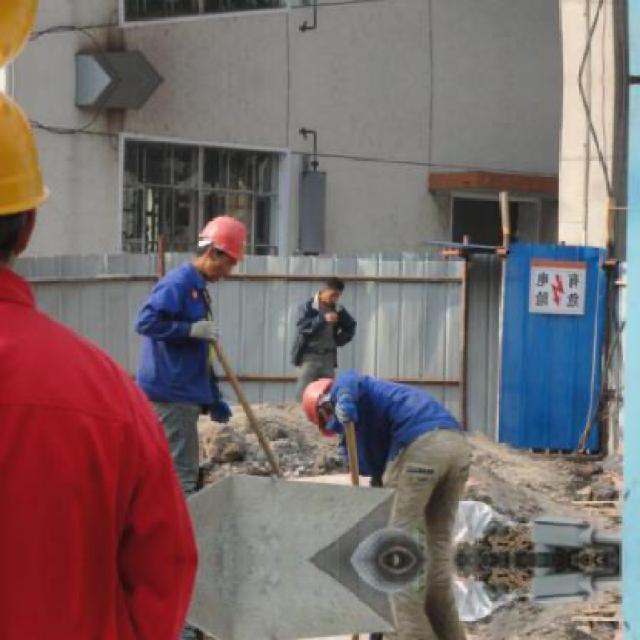con casco: (176, 204, 257, 290), (289, 366, 372, 442)
